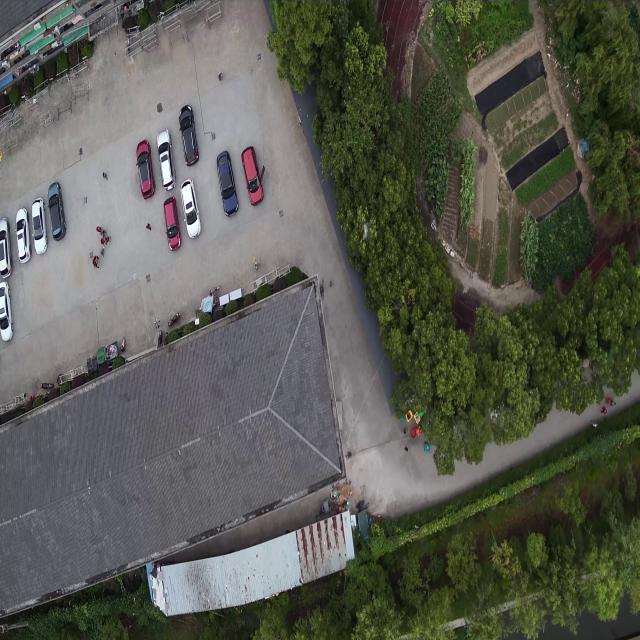UAV: (358, 221, 374, 242)
